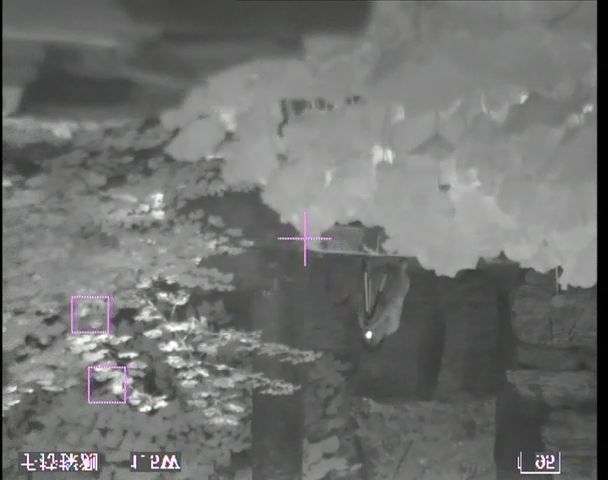my: (364, 328, 376, 340)
